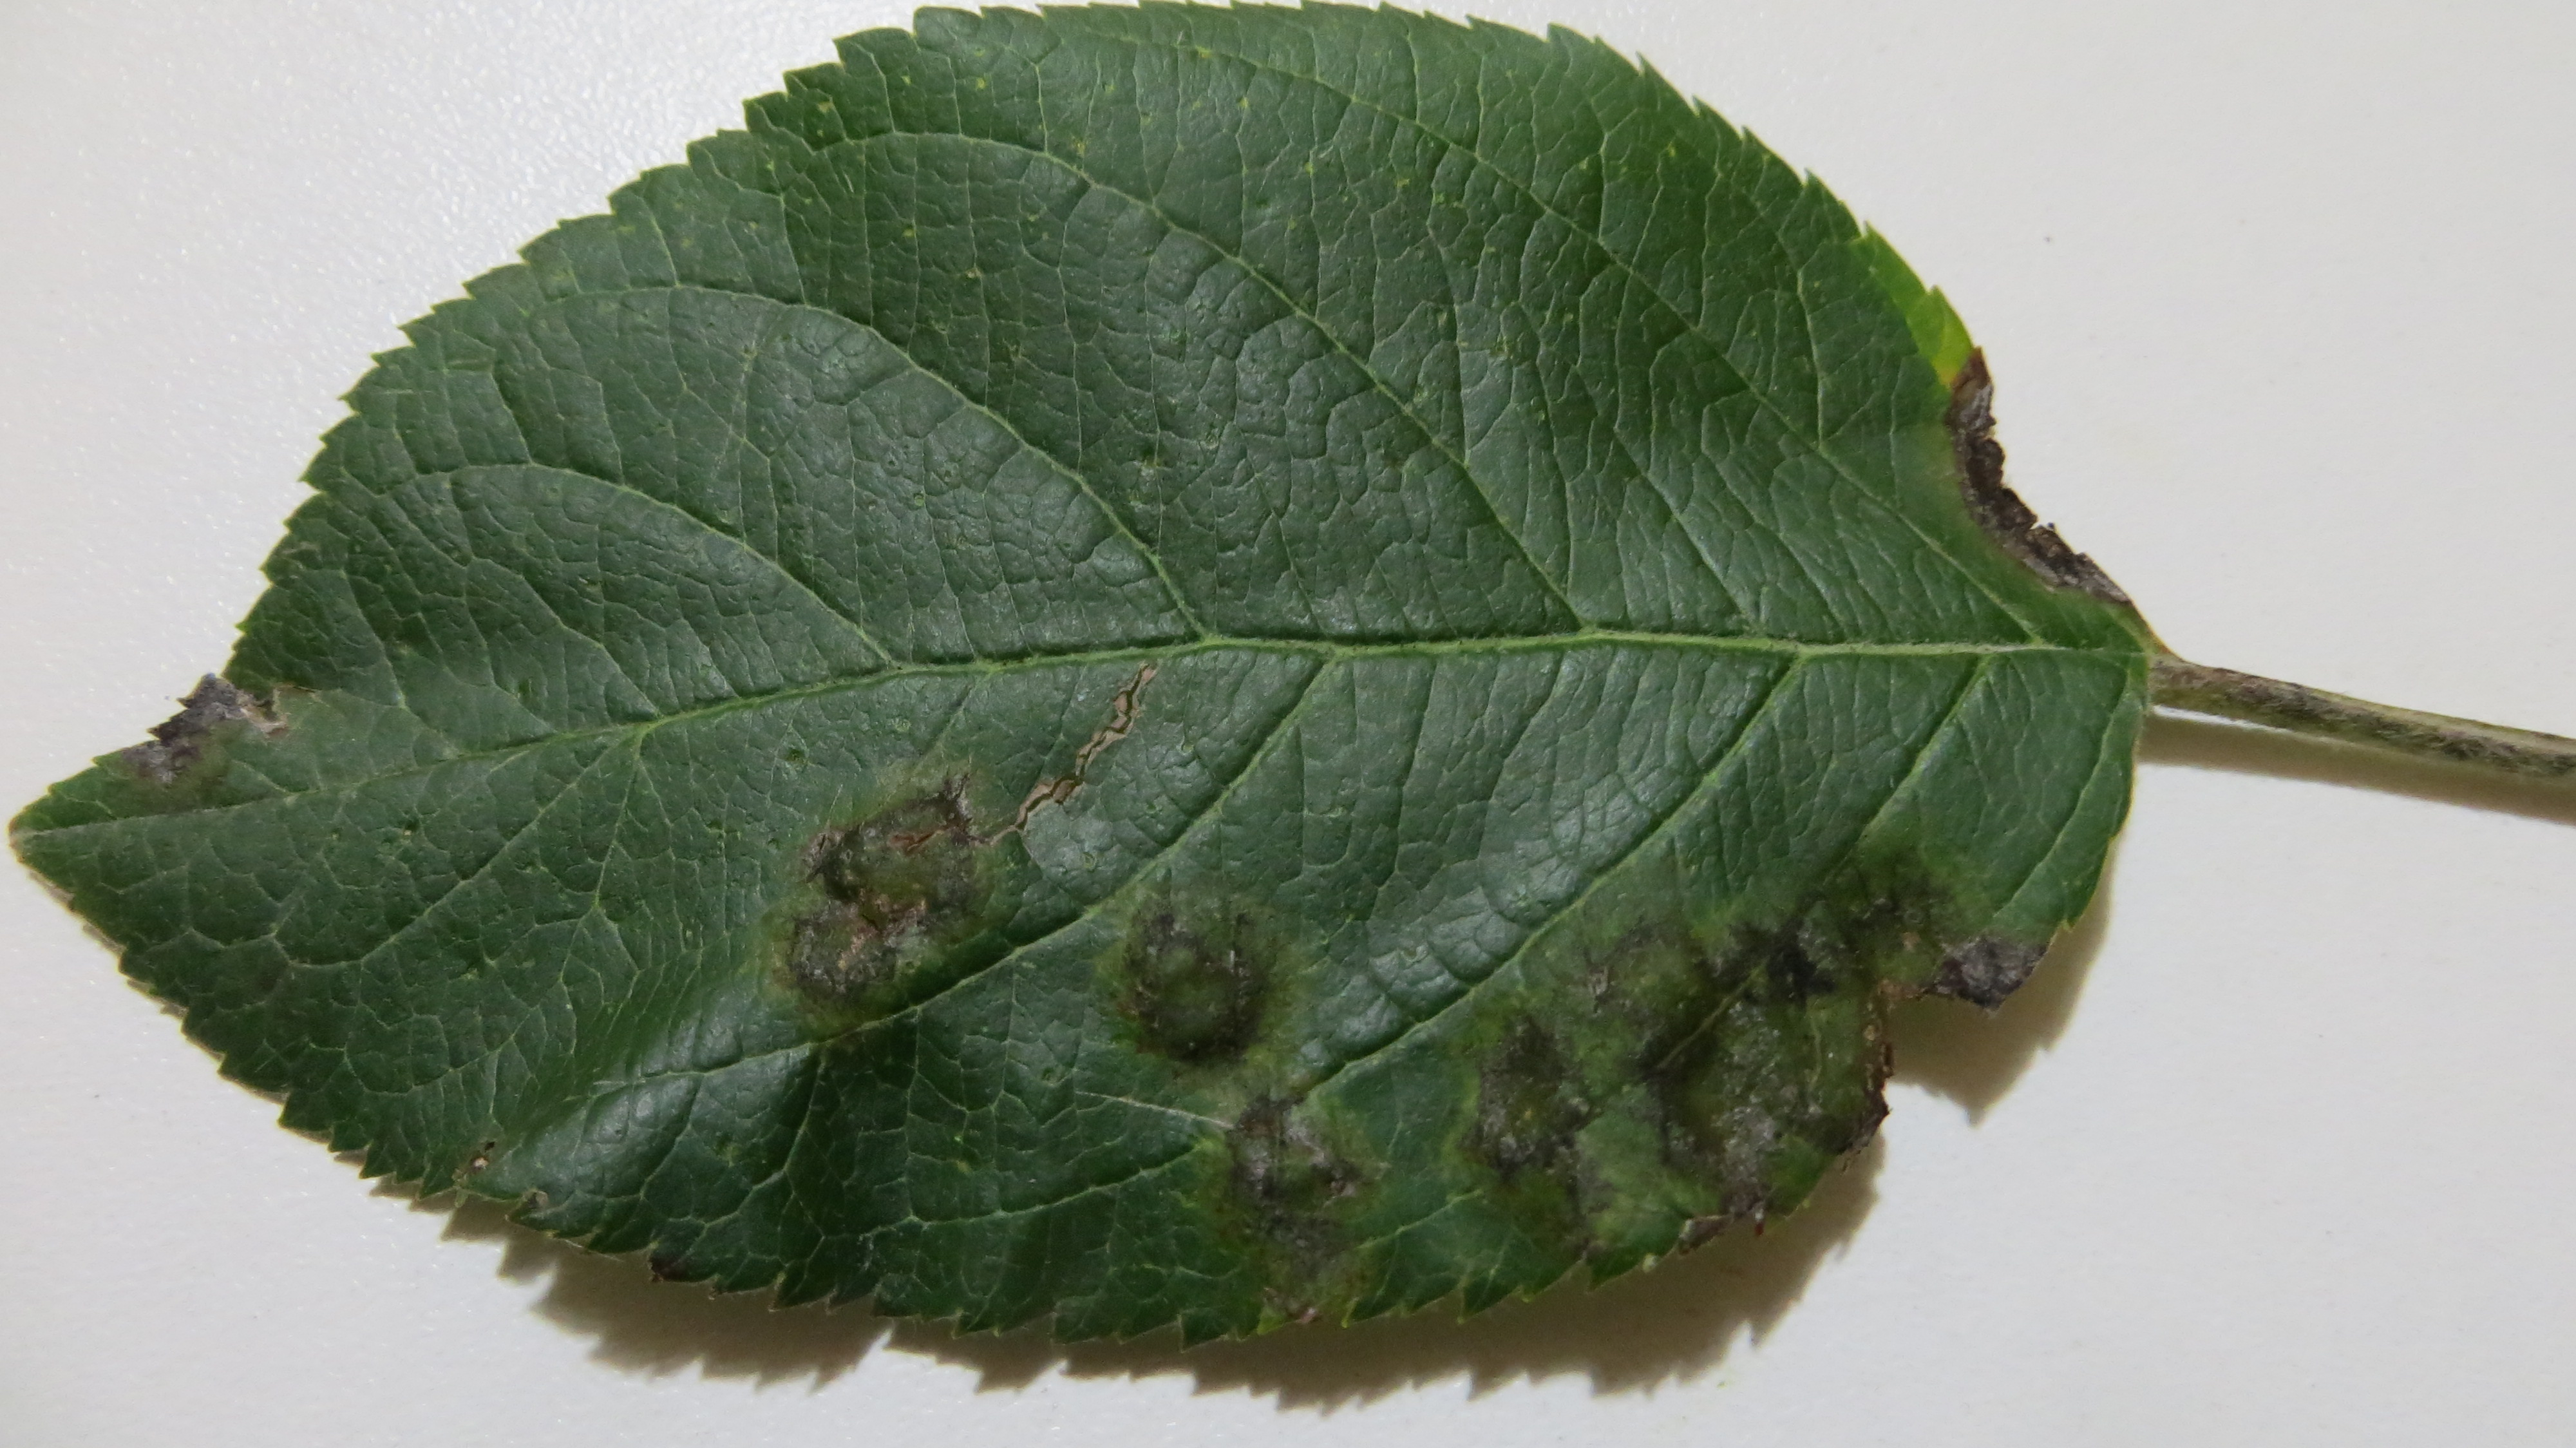sarna: (763, 756, 994, 1018), (1093, 869, 1315, 1085), (1828, 818, 2040, 1018), (1435, 1005, 1621, 1227), (1927, 347, 2082, 598), (1695, 905, 1863, 1119), (1196, 1074, 1366, 1223), (1591, 905, 1720, 1092), (1651, 1089, 1819, 1232), (108, 671, 280, 798), (1242, 1223, 1382, 1351)
